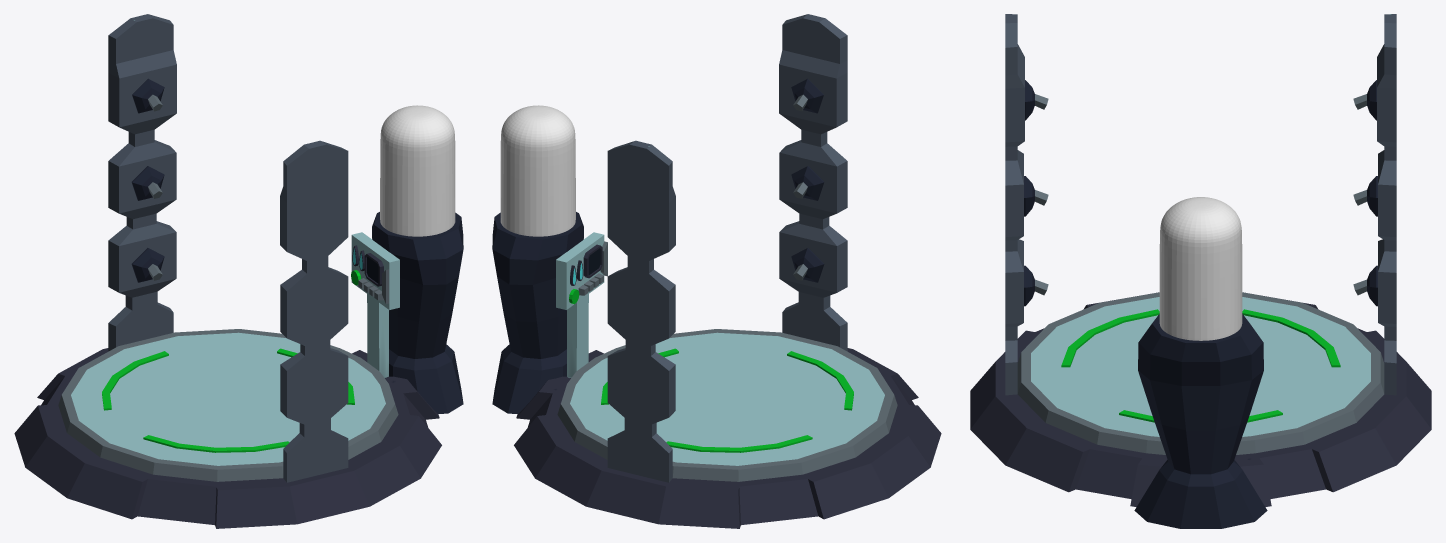
The model's file is healing_structure.fbx.
3 views of the same model, side by side, from view 1: azimuth 30°, elevation 25°; view 2: azimuth 150°, elevation 25°; view 3: azimuth 270°, elevation 25° (orthographic). The views are drawn at different scales.
Visible parts, largest first — view 1: Healing_Structure.001, Healing_Structure.002, Healing_Structure.003, Healing_Structure.008, Healing_Structure.011, Healing_Structure.010, Healing_Structure.012; view 2: Healing_Structure.001, Healing_Structure.002, Healing_Structure.003, Healing_Structure.008, Healing_Structure.011, Healing_Structure.010, Healing_Structure.012, Healing_Structure.009; view 3: Healing_Structure.001, Healing_Structure.002, Healing_Structure.003, Healing_Structure.008, Healing_Structure.010, Healing_Structure.011, Healing_Structure.012.
Part boxes in pixels (bbox=[...]): Healing_Structure.001: bbox=[14, 14, 441, 528]; Healing_Structure.002: bbox=[372, 212, 463, 413]; Healing_Structure.003: bbox=[380, 105, 455, 236]; Healing_Structure.008: bbox=[102, 348, 354, 452]; Healing_Structure.011: bbox=[131, 166, 164, 200]; Healing_Structure.010: bbox=[131, 248, 164, 282]; Healing_Structure.012: bbox=[132, 78, 164, 113]; Healing_Structure.001: bbox=[514, 14, 941, 528]; Healing_Structure.002: bbox=[492, 212, 583, 413]; Healing_Structure.003: bbox=[500, 105, 575, 236]; Healing_Structure.008: bbox=[601, 348, 853, 452]; Healing_Structure.011: bbox=[791, 166, 824, 200]; Healing_Structure.010: bbox=[791, 248, 824, 282]; Healing_Structure.012: bbox=[791, 78, 823, 113]; Healing_Structure.009: bbox=[583, 244, 602, 278]; Healing_Structure.001: bbox=[970, 14, 1431, 506]; Healing_Structure.002: bbox=[1134, 314, 1267, 528]; Healing_Structure.003: bbox=[1159, 197, 1242, 340]; Healing_Structure.008: bbox=[1061, 309, 1340, 422]; Healing_Structure.010: bbox=[1024, 265, 1377, 306]; Healing_Structure.011: bbox=[1024, 176, 1377, 216]; Healing_Structure.012: bbox=[1025, 80, 1376, 120].
Bounding box in the file's own units: 432 × 484 × 405.
